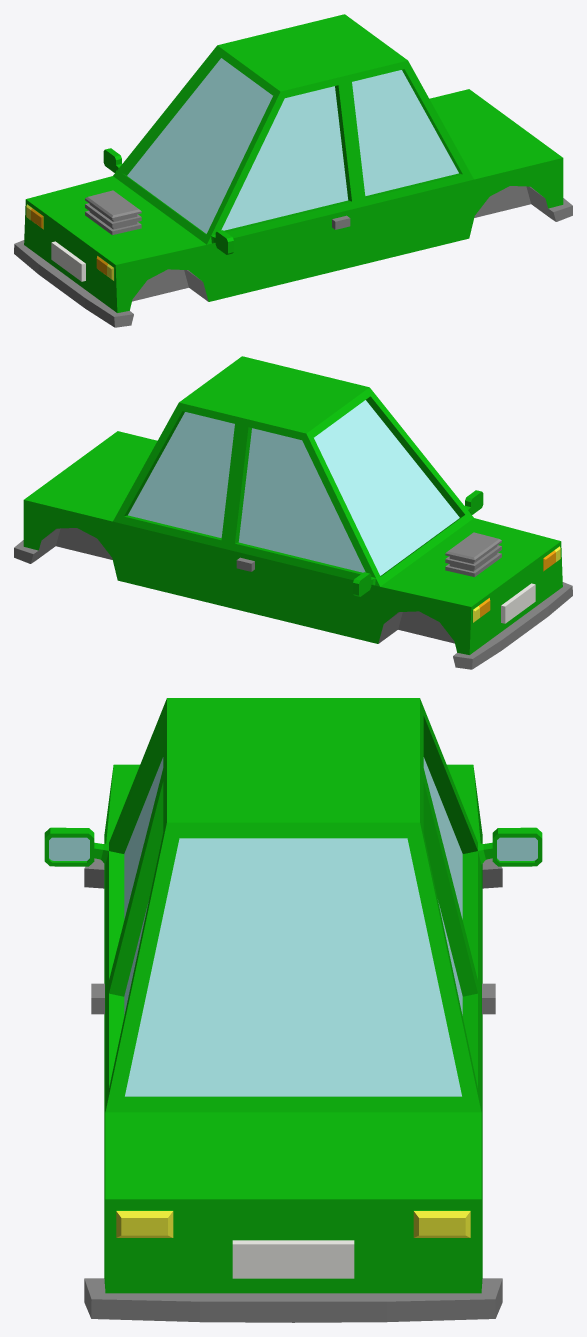
Rendered from carGreen.fbx.
3 renders of one model, top to bottom at view 1: azimuth 30°, elevation 25°; view 2: azimuth 150°, elevation 25°; view 3: azimuth 270°, elevation 25°, orthographic. The views are drawn at different scales.
Visible parts, largest first — view 1: carGreen; view 2: carGreen; view 3: carGreen.
Part boxes in pixels (box(x1,y1,x2,y2)): carGreen: box(14, 14, 572, 327); carGreen: box(14, 356, 572, 669); carGreen: box(44, 698, 542, 1322).
Size of the model in its own units: 319 by 252 by 686.
